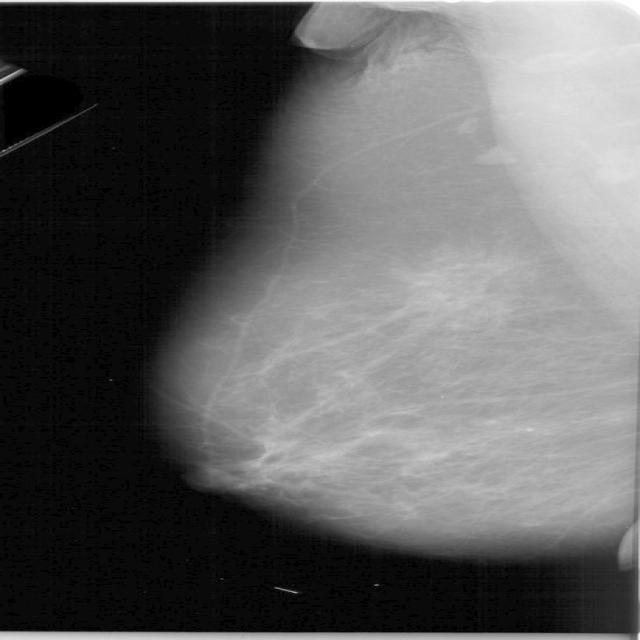tumour: (416, 254, 501, 310)
